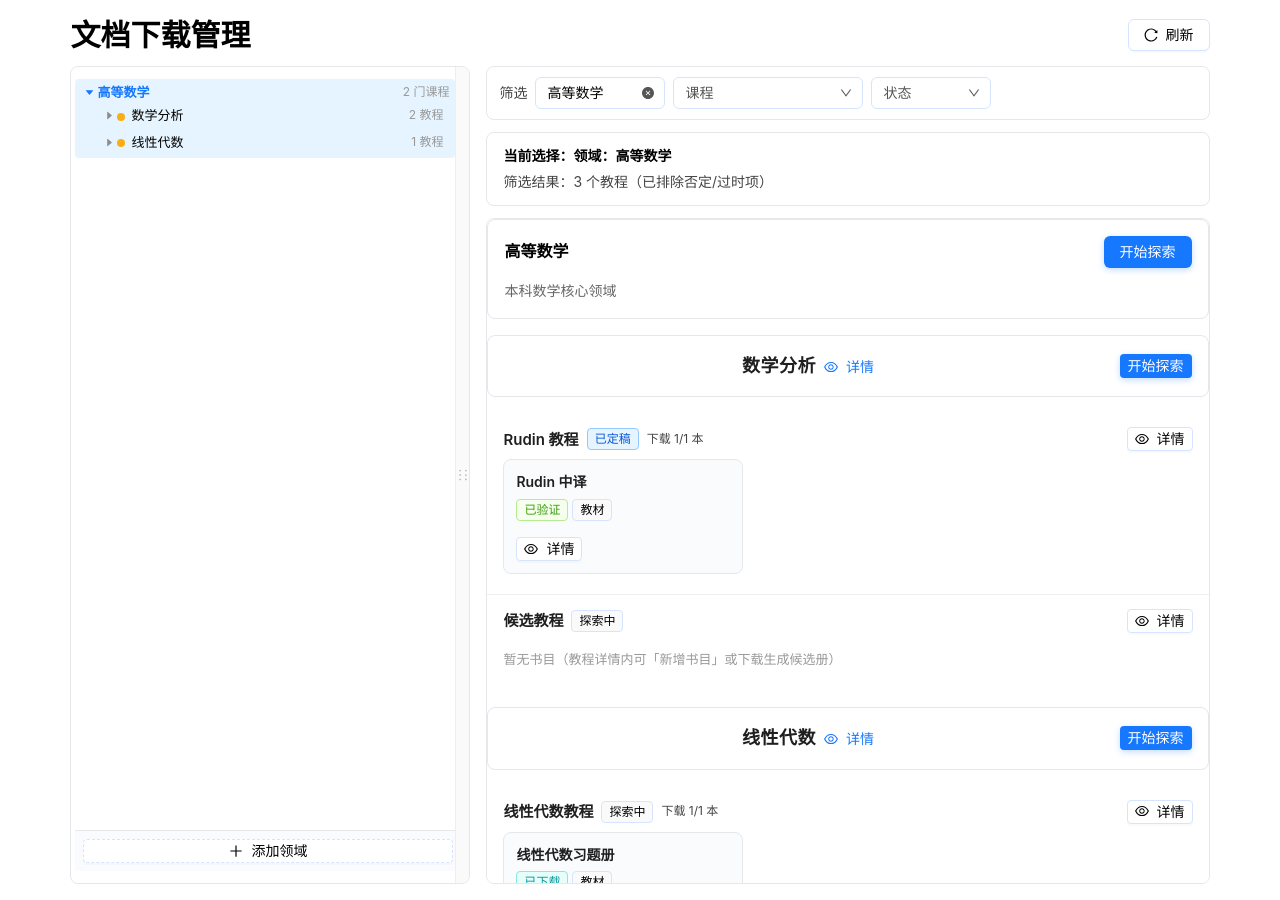
Test: 文档下载管理 Downloads v2（真实领域课程体系，2026-08-24 REQ-059） › 课程点击 → 展开 + 选中 + 联动筛选（domain=真实 domain_id）
Click the text "数学分析" at (150, 115), box [117,107,183,123]
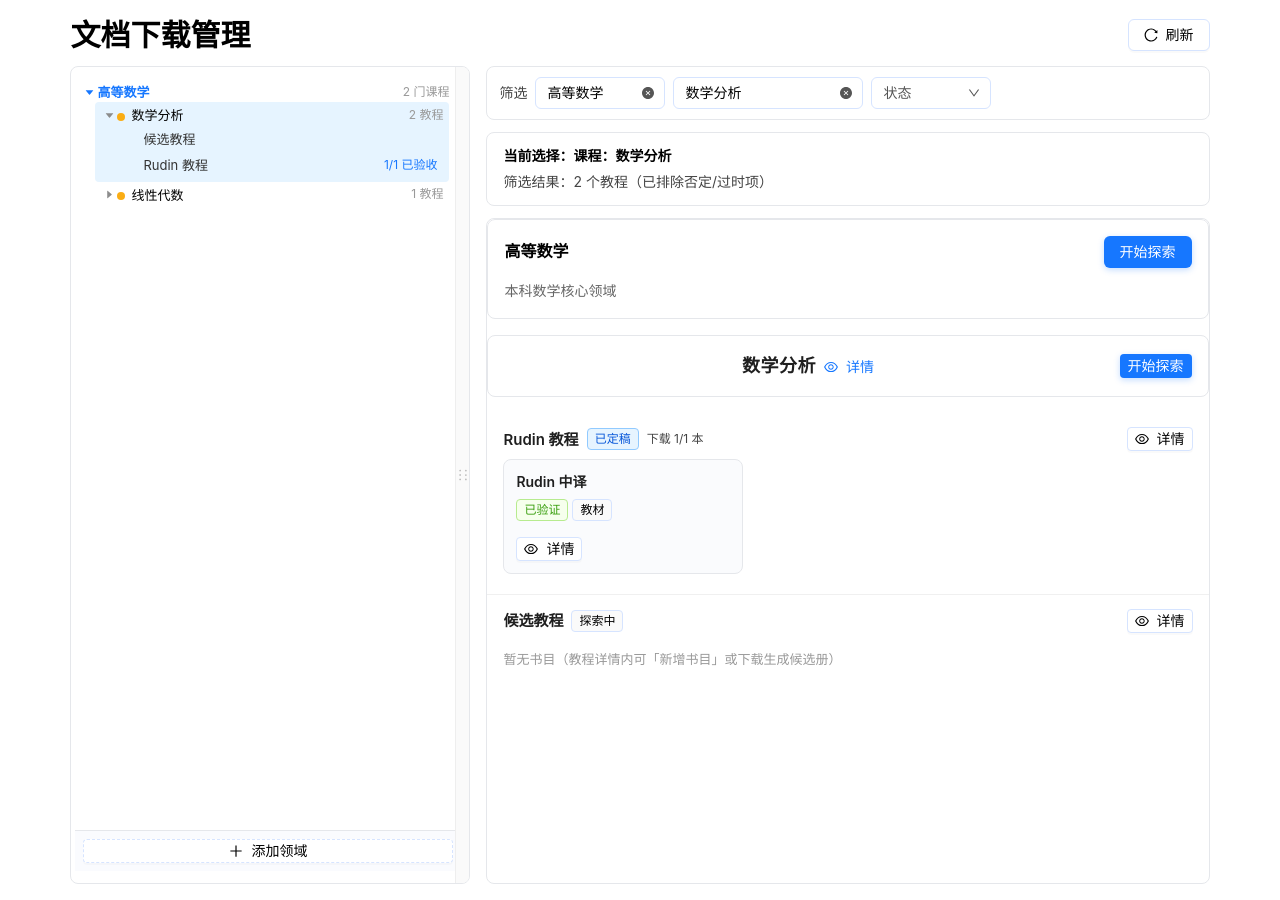
Check: the text "筛选结果：2 个教程（已排除否定/过时项）" is shown, box [503,173,773,190]
